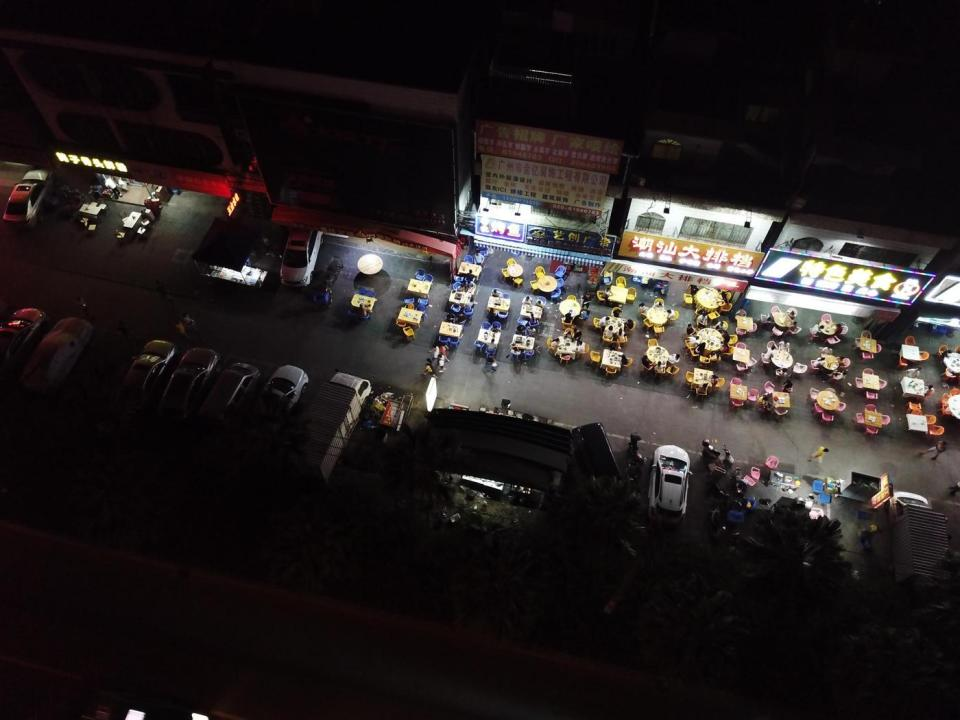car: (16, 316, 94, 399), (114, 339, 180, 429), (158, 348, 223, 431), (248, 365, 309, 444), (648, 444, 694, 524), (3, 169, 61, 232), (0, 307, 49, 377), (278, 224, 325, 288)
truck: (286, 367, 376, 487)
van: (197, 362, 262, 436), (572, 421, 625, 510)
